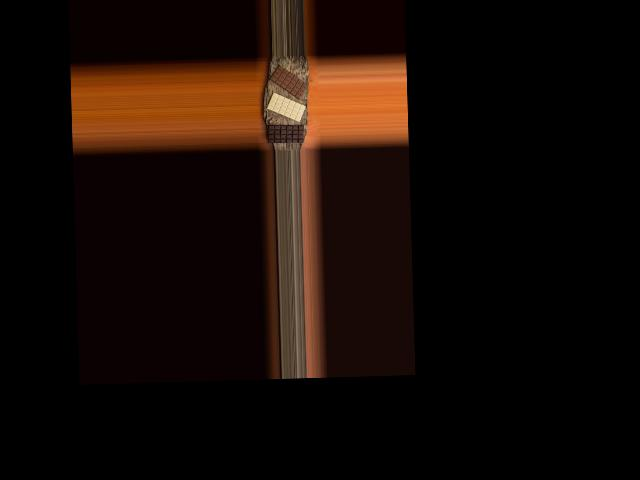chocolate: (266, 124, 304, 144)
